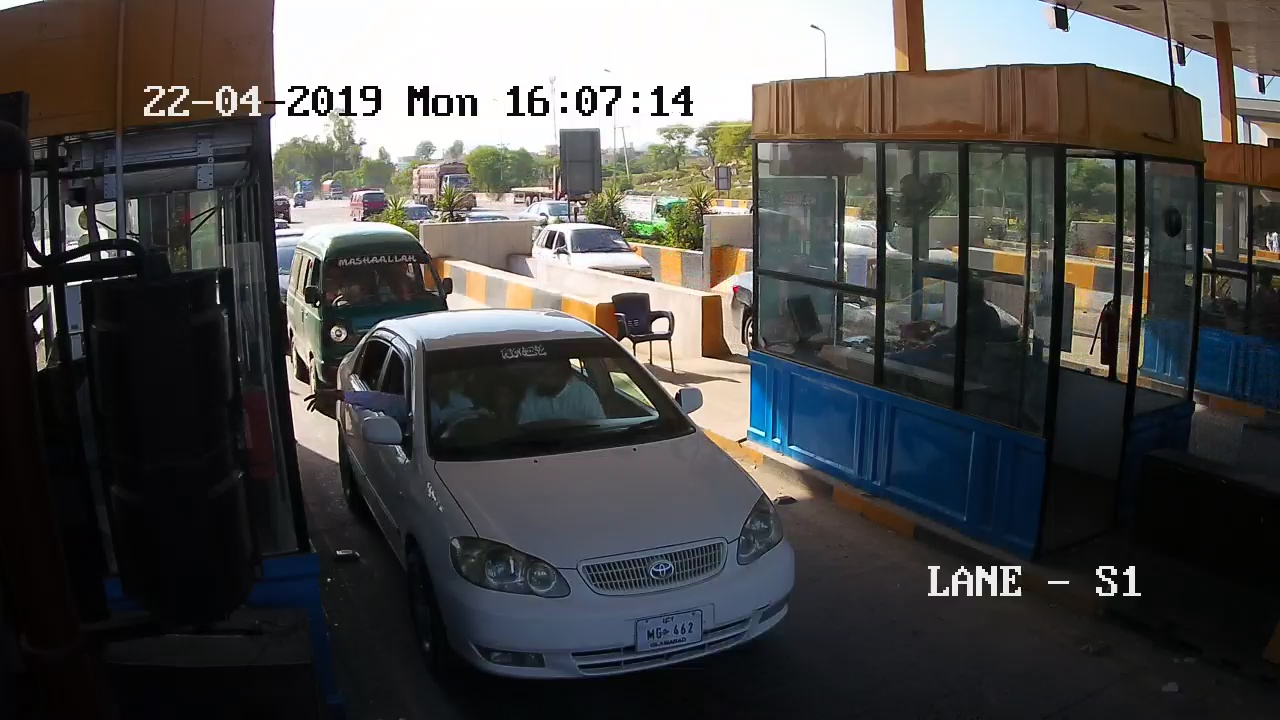Number Plate (Car): (631, 613, 703, 649)
